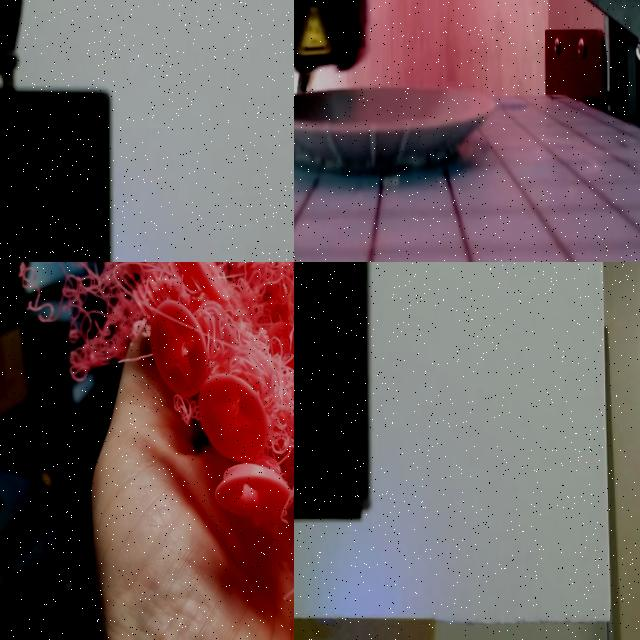spaghetti: (23, 262, 294, 532)
